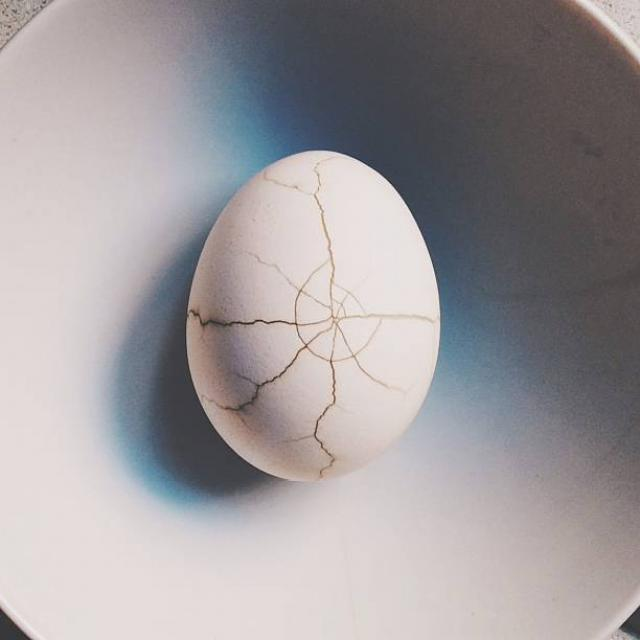biodegradable: (176, 138, 454, 484)
